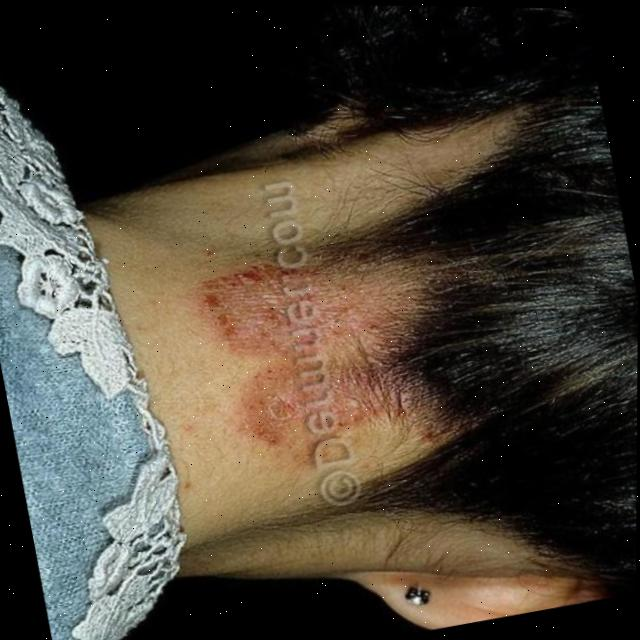Eczema: (180, 214, 455, 496)
